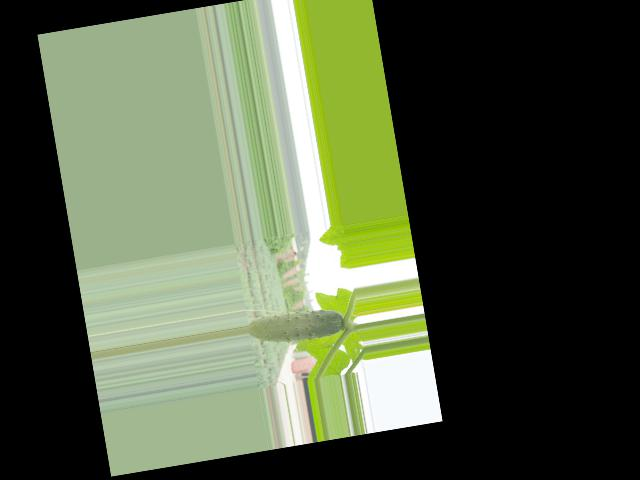cucumber: (245, 303, 345, 349)
